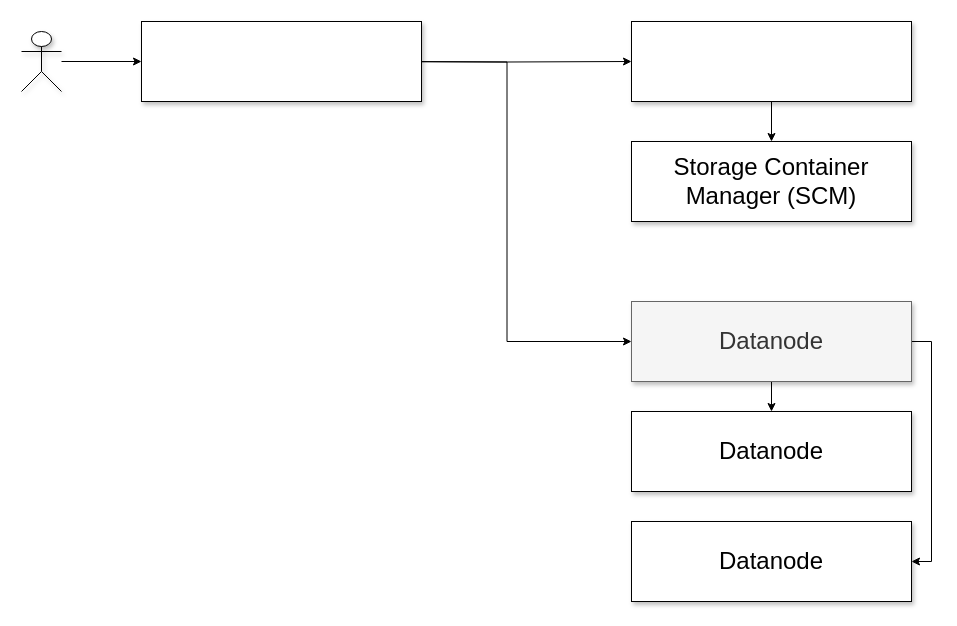
Some shapes in this 957 by 626 pixel diagram are drawn without their labels. The centre of each missing label's shape, as x and y in pixels:
Ozone Manager (OM): the point at 772,62
S3 gateway: the point at 282,62
